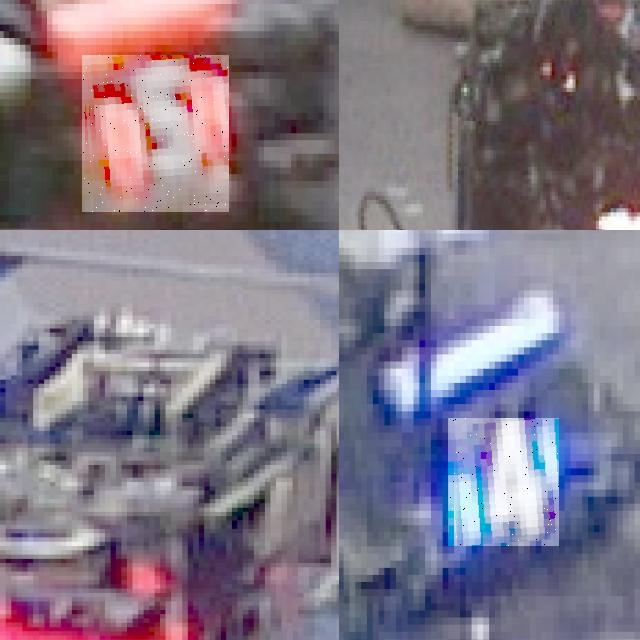B4: (448, 418, 559, 546)
R5: (82, 55, 229, 212)
